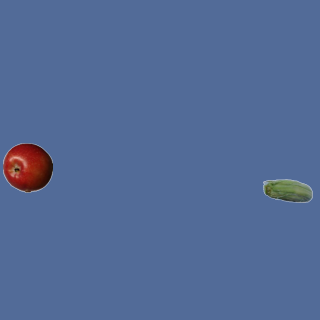Apple Braeburn: (2, 142, 52, 192)
Corn Husk: (262, 167, 312, 217)
